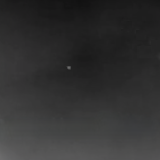Target: (67, 65, 71, 69)
